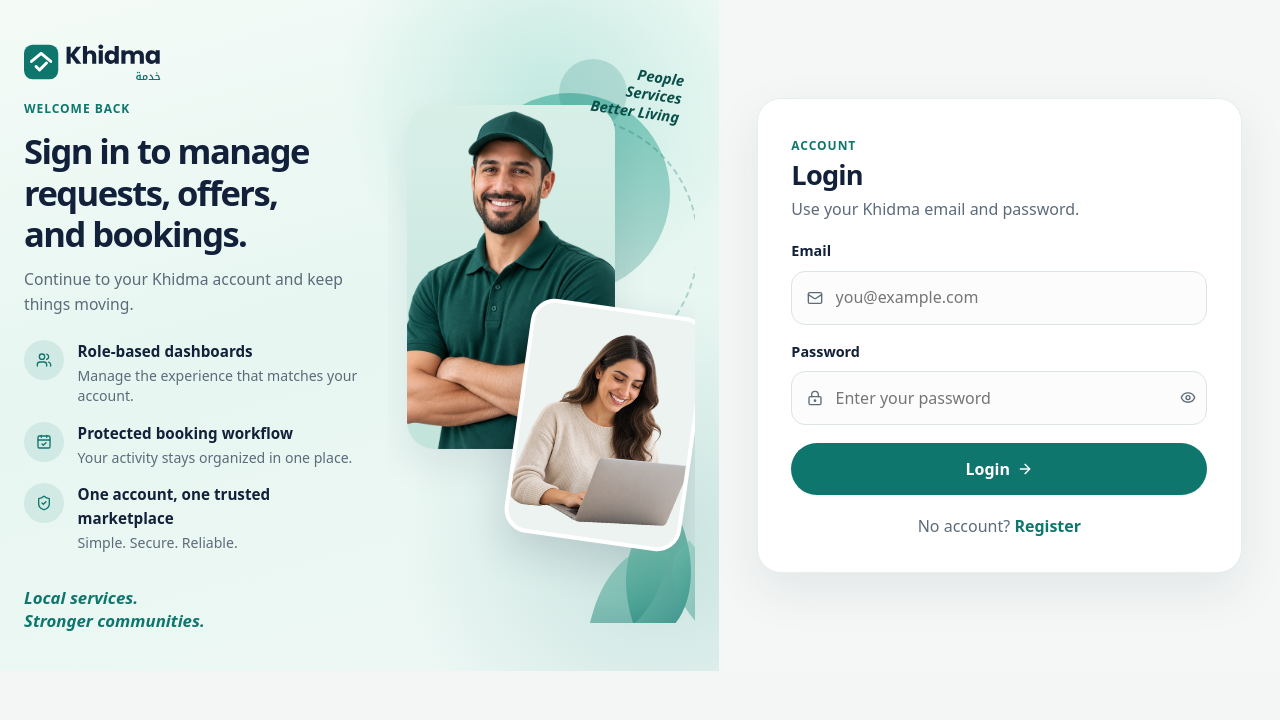
Test case: LoginPage › maps API validation errors onto the email and password fields
Type "not-an-email@khidma.test" into the field labelled "Email".
click(999, 298); type("not-an-email@khidma.test")  # box [791, 271, 1207, 325]
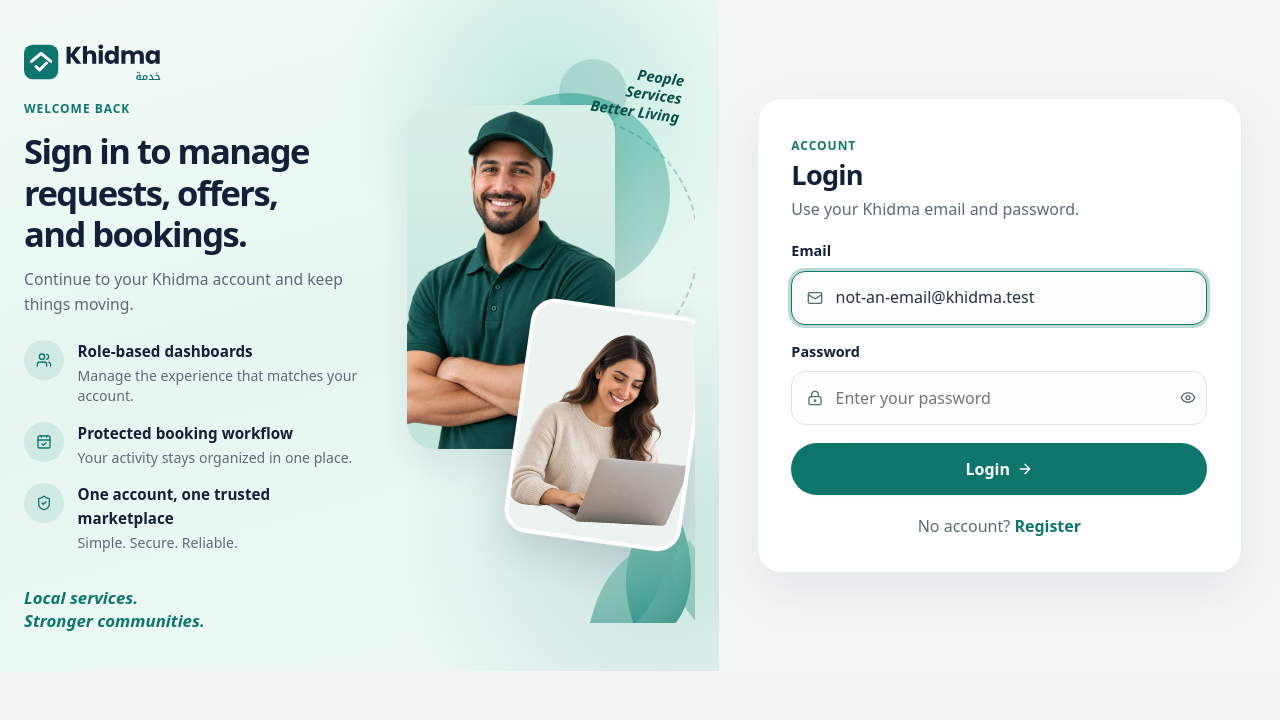
Type "short" into the password field labelled "Password".
click(999, 398); type("short")  # box [791, 371, 1207, 425]
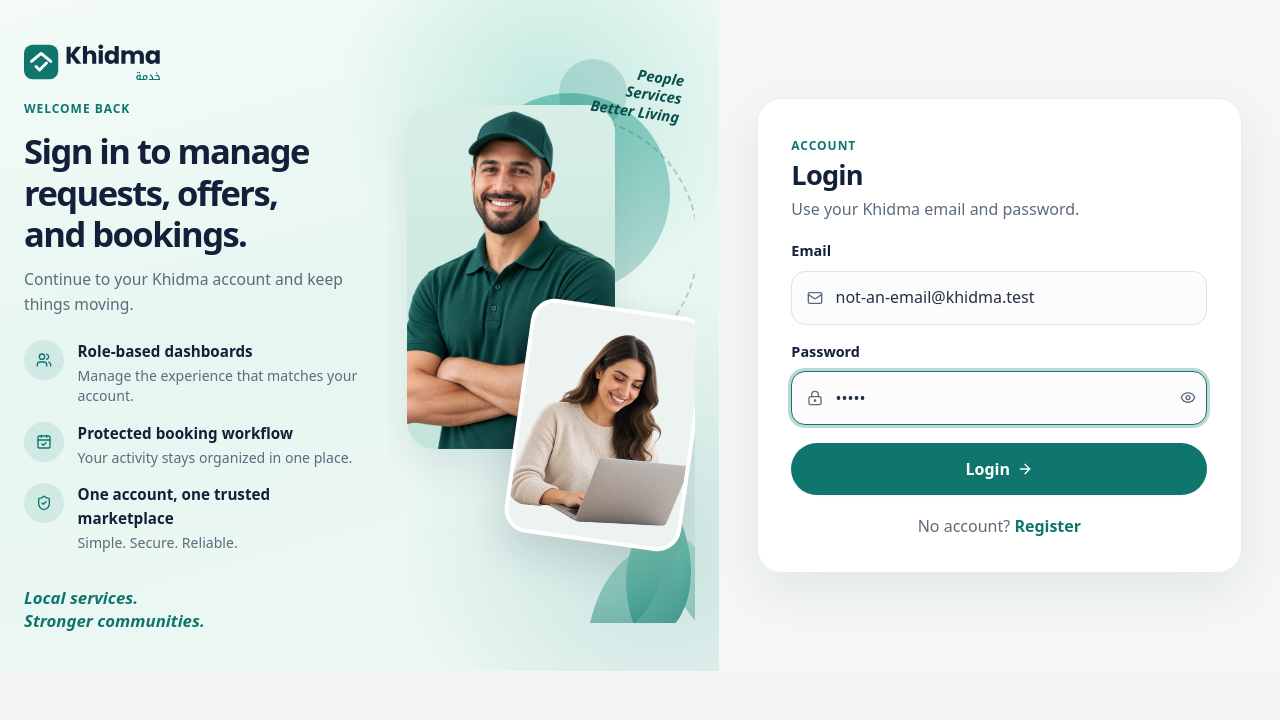
Click the button "Login".
click(999, 469)  # box [791, 443, 1207, 495]
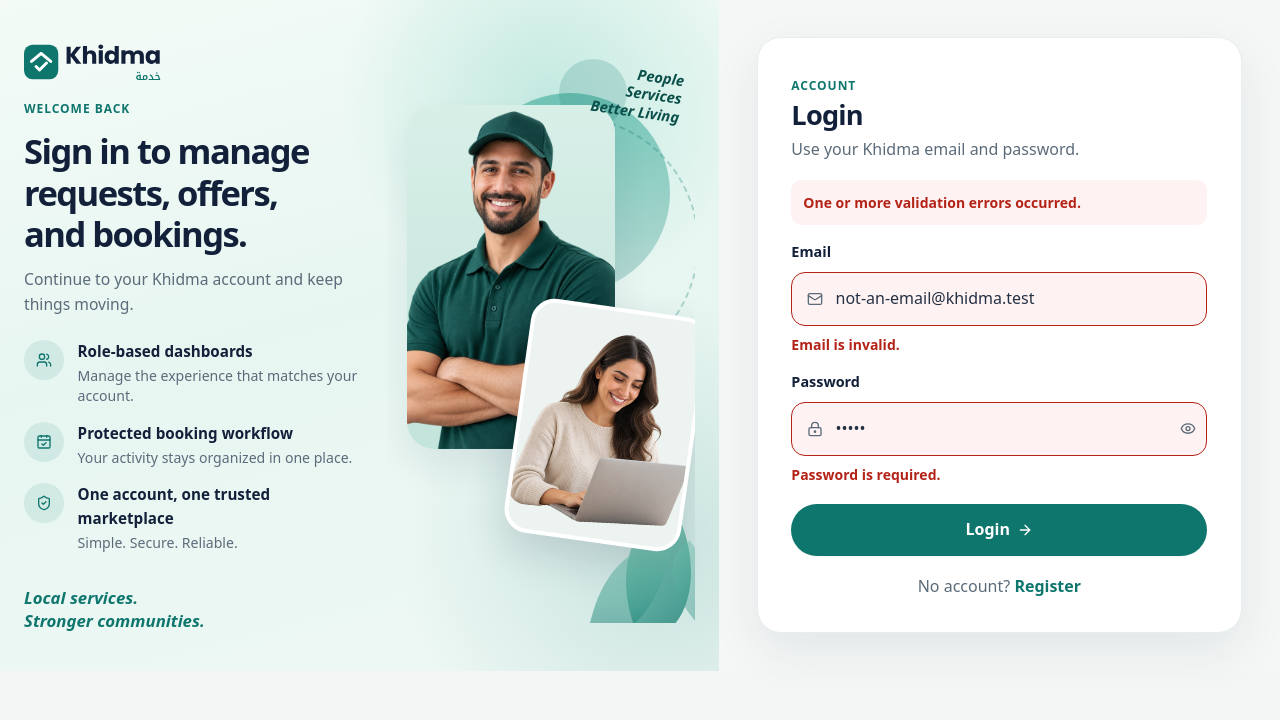
expect the text "Email is invalid." is shown: met, box [791, 335, 900, 354]
expect the text "Password is required." is shown: met, box [791, 465, 941, 484]
